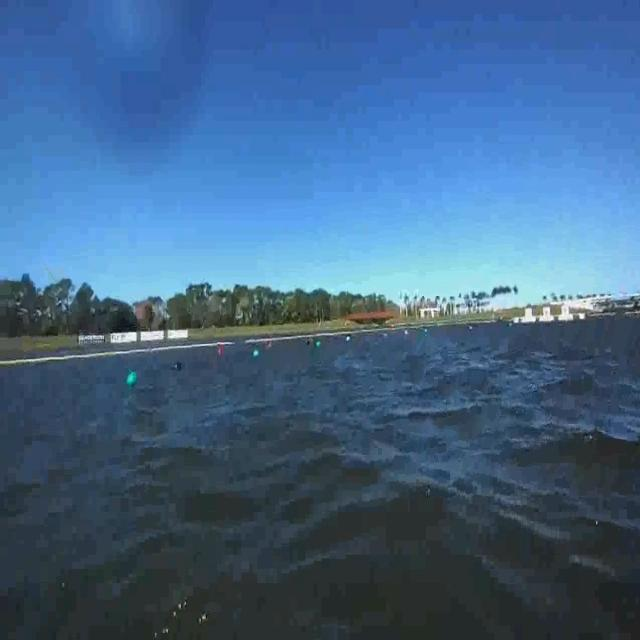green-buoy: (128, 370, 139, 384)
